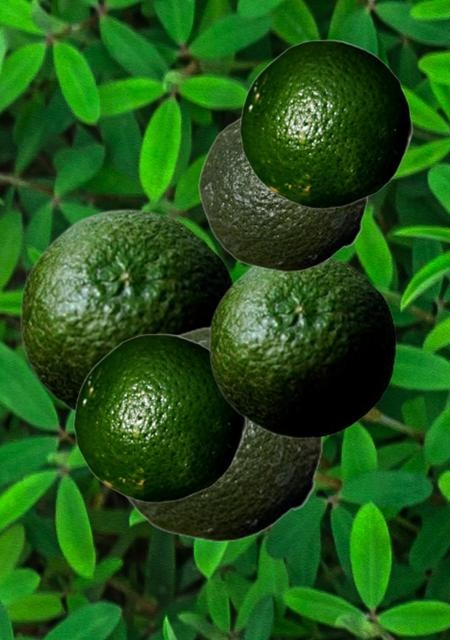calamansi: (19, 208, 236, 413), (122, 326, 322, 541), (208, 255, 395, 438), (73, 333, 246, 502), (239, 39, 412, 208), (198, 116, 367, 271)
